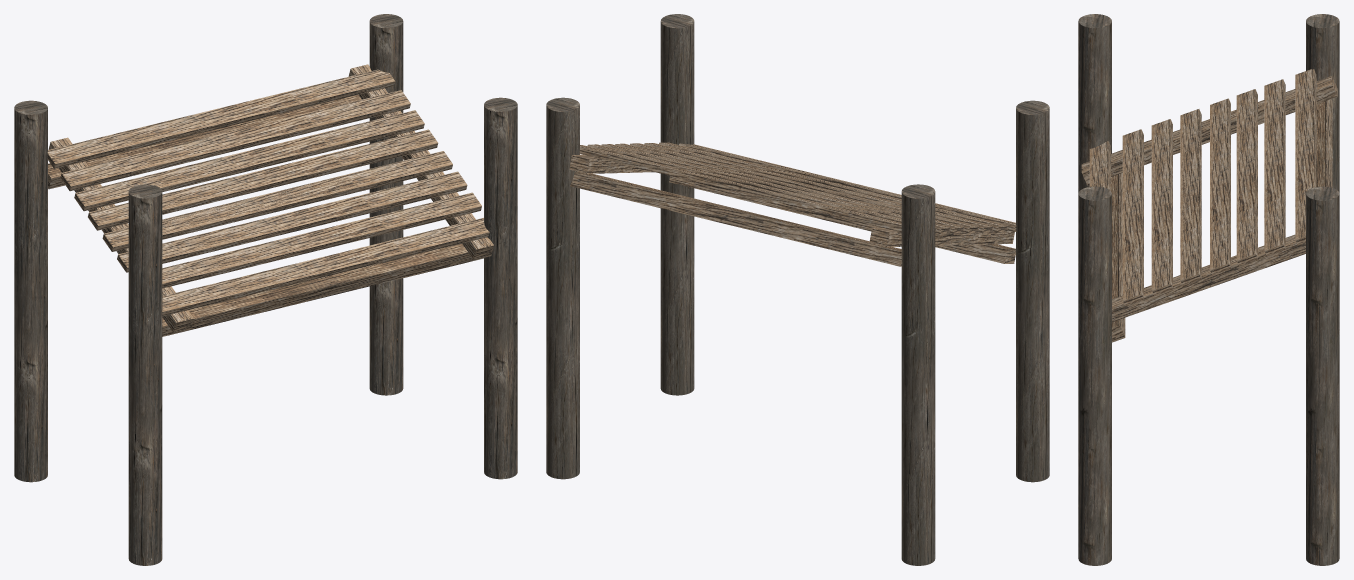
The model's file is plataforma 3.fbx.
3 renders of one model, left to right at view 1: azimuth 30°, elevation 25°; view 2: azimuth 150°, elevation 25°; view 3: azimuth 270°, elevation 25°, orthographic.
Visible parts, largest first — view 1: Columna 6x0.022, Columna 6x0.023, Columna 6x0.021, Cube.155, Cube.157, Columna 6x0.025, Cube.153, Cube.161, Cube.159, Cube.151, Cube.147, Cube.149 (+5 smaller); view 2: Columna 6x0.023, Columna 6x0.022, Columna 6x0.025, Columna 6x0.021, Cube.182, Cube.157, Cube.163, Cube.161, Cube.145, Cube.155, Cube.159, Cube.147 (+5 smaller); view 3: Columna 6x0.021, Columna 6x0.025, Columna 6x0.022, Cube.155, Cube.147, Cube.153, Cube.159, Cube.151, Cube.149, Cube.157, Cube.143, Columna 6x0.023 (+5 smaller).
Boxes of the visible parts, x1,y1,x2,y2 form: Columna 6x0.022: [128, 184, 162, 565]; Columna 6x0.023: [14, 100, 47, 482]; Columna 6x0.021: [484, 97, 517, 479]; Cube.155: [60, 90, 410, 191]; Cube.157: [47, 69, 395, 168]; Columna 6x0.025: [369, 14, 403, 395]; Cube.153: [74, 110, 424, 211]; Cube.161: [162, 217, 489, 316]; Cube.159: [162, 192, 481, 288]; Cube.151: [88, 129, 438, 230]; Cube.147: [117, 171, 467, 272]; Cube.149: [102, 151, 452, 251]; Columna 6x0.023: [901, 184, 935, 565]; Columna 6x0.022: [1016, 100, 1049, 482]; Columna 6x0.025: [546, 97, 579, 479]; Columna 6x0.021: [660, 14, 694, 395]; Cube.182: [570, 172, 901, 266]; Cube.157: [579, 145, 901, 232]; Cube.163: [669, 176, 1015, 263]; Cube.161: [679, 143, 1016, 231]; Cube.145: [869, 228, 1014, 246]; Cube.155: [587, 144, 937, 233]; Cube.159: [659, 142, 1008, 232]; Cube.147: [644, 143, 993, 232]; Columna 6x0.021: [1078, 186, 1111, 565]; Columna 6x0.025: [1306, 186, 1339, 565]; Columna 6x0.022: [1078, 14, 1111, 192]; Cube.155: [1264, 79, 1285, 256]; Cube.147: [1151, 119, 1172, 295]; Cube.153: [1236, 89, 1257, 265]; Cube.159: [1122, 129, 1143, 306]; Cube.151: [1210, 98, 1230, 275]; Cube.149: [1180, 109, 1201, 285]; Cube.157: [1295, 69, 1316, 245]; Cube.143: [1112, 234, 1305, 321]; Columna 6x0.023: [1306, 14, 1339, 192].
Bounding box in the file's own units: 657 × 600 × 389.
2 materials, 2 textured.
